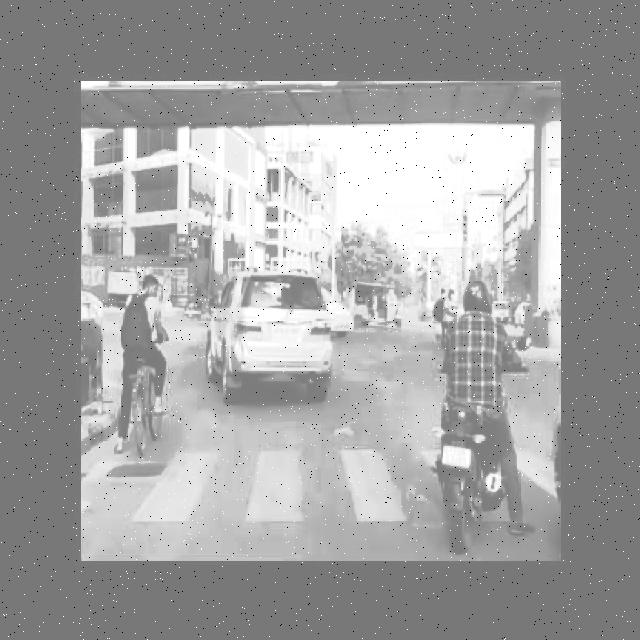Car: (202, 262, 346, 394)
